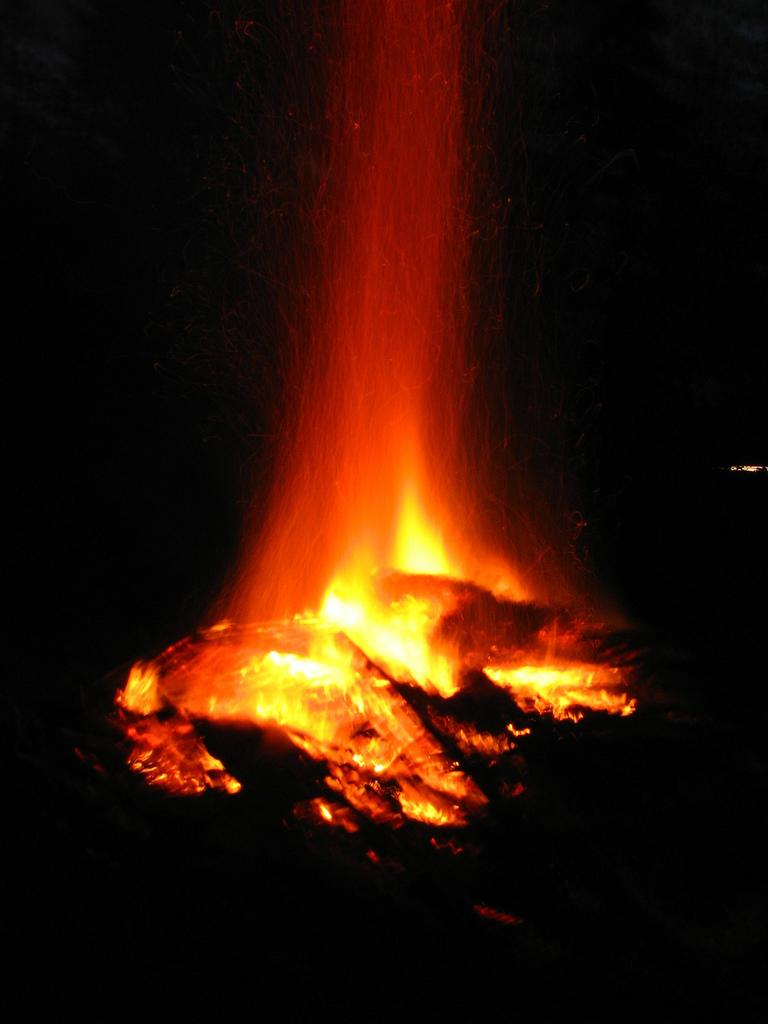fire: (310, 572, 458, 682), (235, 648, 365, 732), (390, 500, 475, 580)
